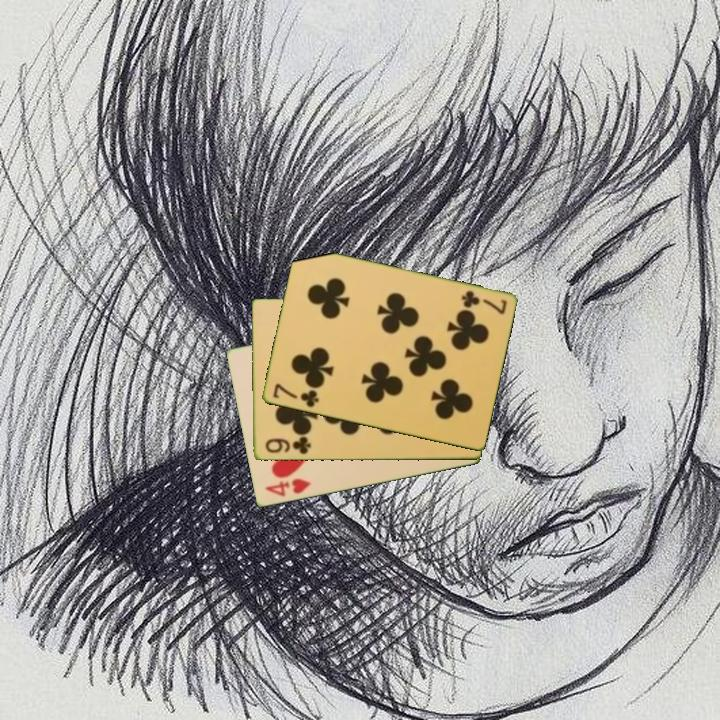4h: (261, 475, 313, 500)
7c: (269, 380, 322, 410), (458, 287, 510, 317)
9c: (262, 434, 314, 457)
